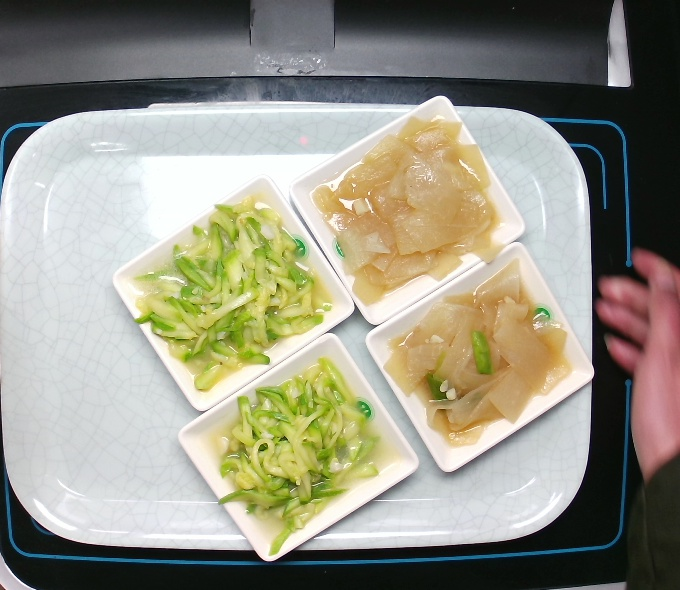wcq-LuoBo: (309, 115, 506, 307), (382, 258, 573, 448)
wcq-NenNanGua: (135, 191, 330, 387), (220, 365, 396, 559)
